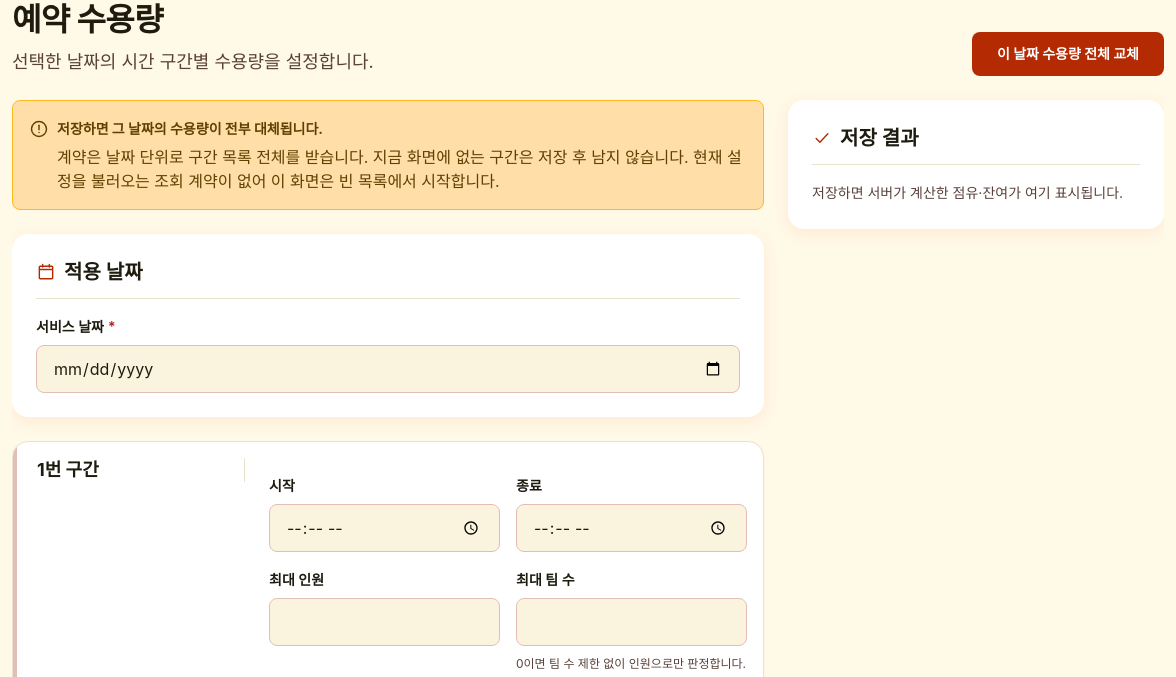
Test: 예약 수용량 화면 › 기존 점유와 충돌하면 다른 사용자 상태를 노출하지 않고 안내한다
In the date field labelled "서비스 날짜": (388, 369) [36, 345, 740, 393], type "2026-09-01"
In the time field labelled "시작": (384, 528) [269, 504, 500, 552], type "11:00"
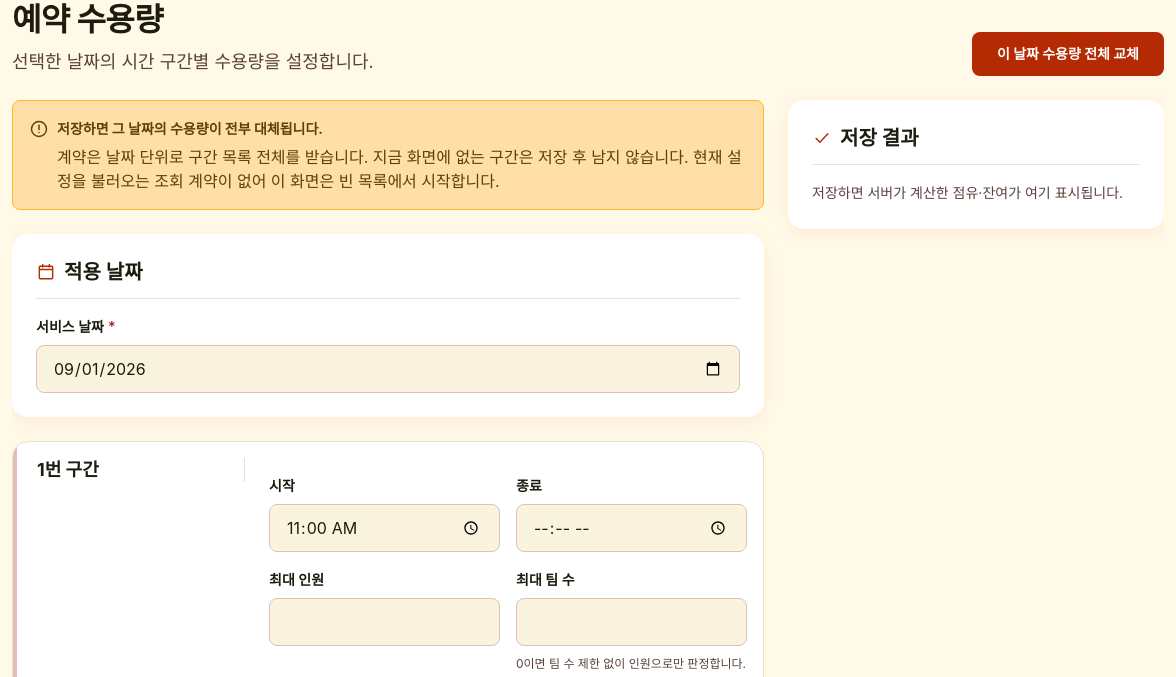
In the time field labelled "종료": (632, 528) [516, 504, 747, 552], type "14:00"
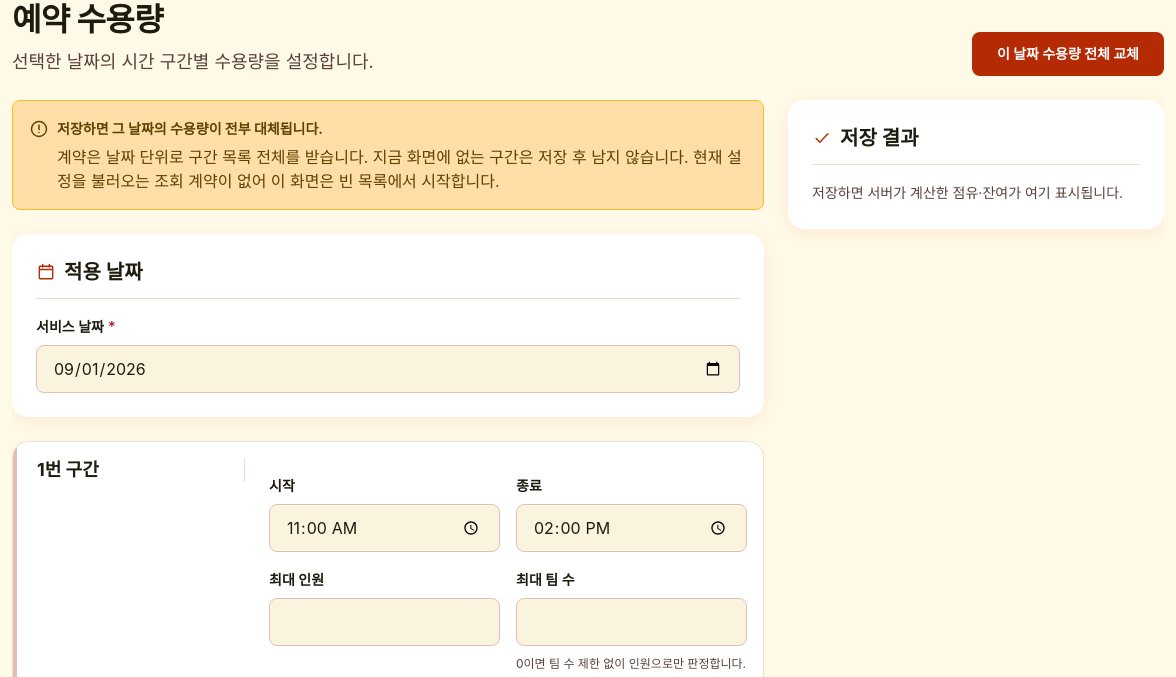
In the field labelled "최대 인원": (384, 622) [269, 598, 500, 646], type "40"
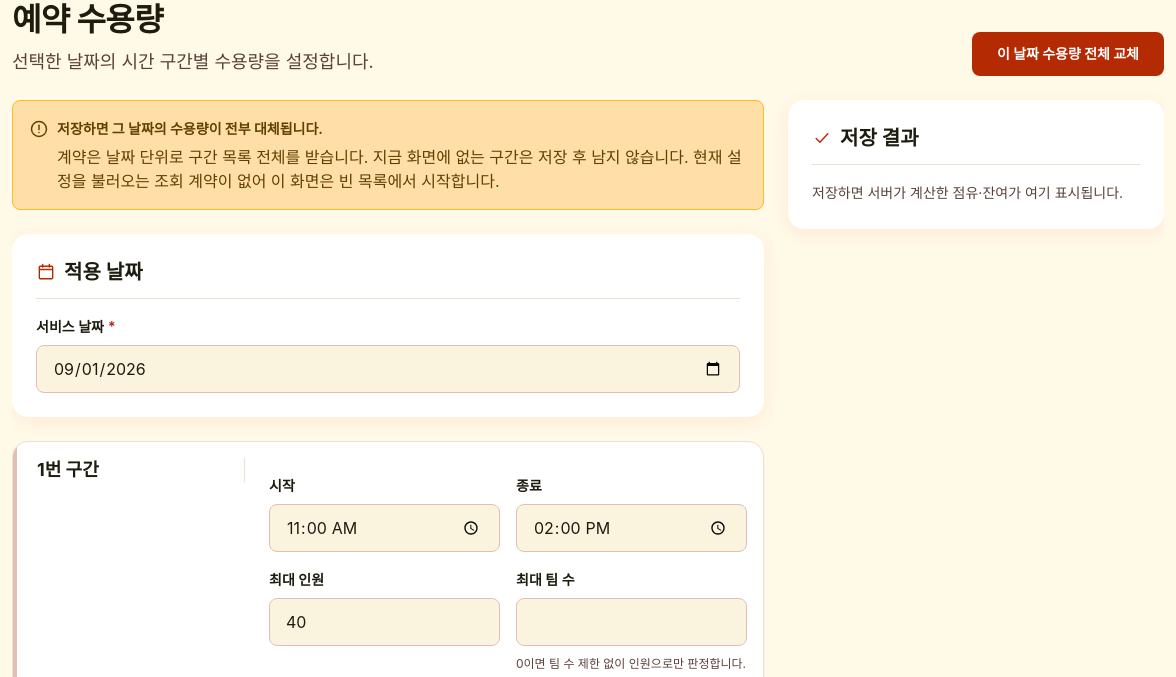
In the field labelled "최대 팀 수": (632, 622) [516, 598, 747, 646], type "10"
(page scrolled)
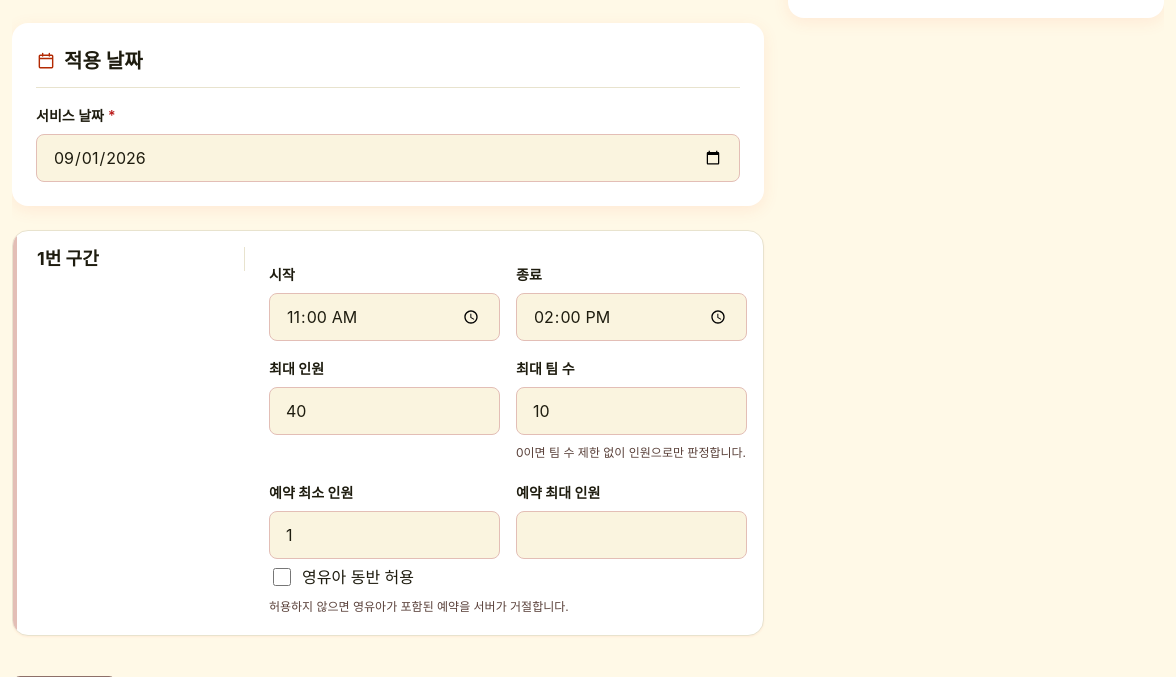
In the field labelled "예약 최대 인원": (632, 535) [516, 511, 747, 559], type "8"
(page scrolled)
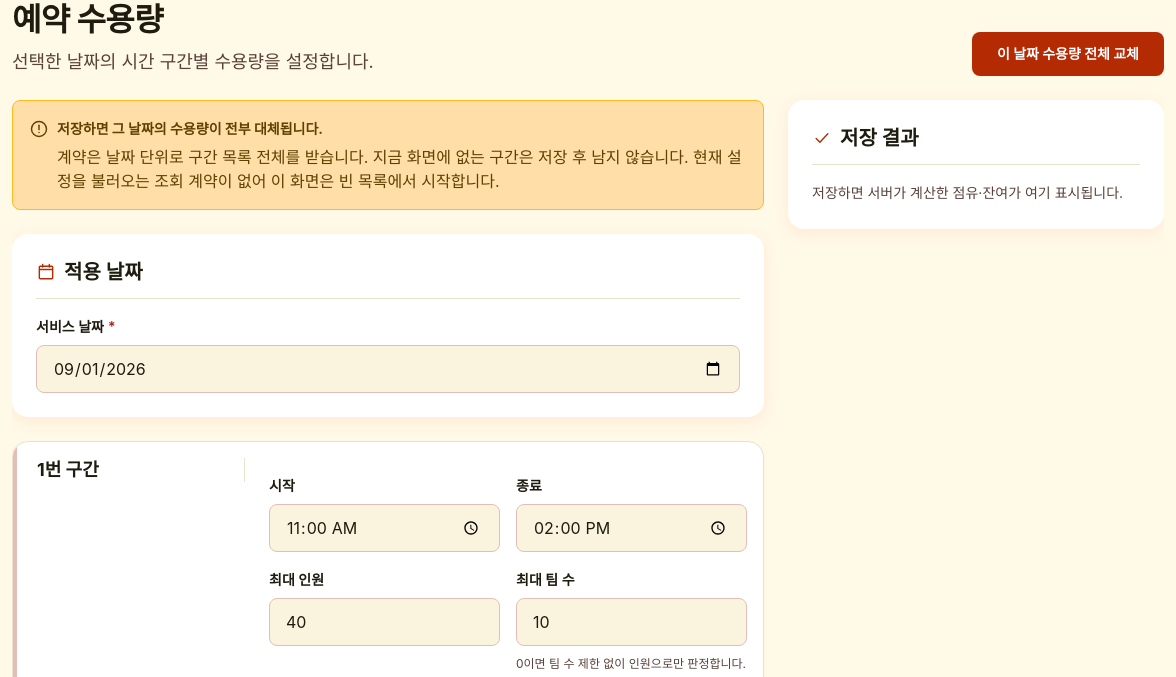
Click the button "이 날짜 수용량 전체 교체": (1068, 54) [972, 32, 1164, 76]
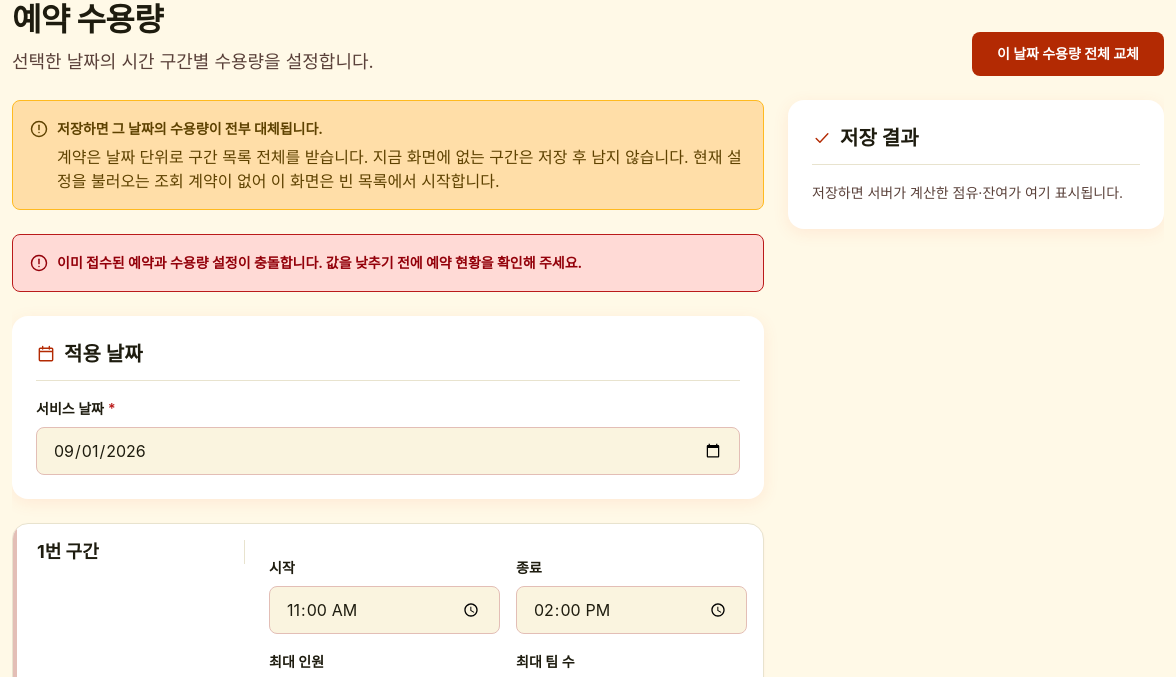
Expected: the text "이미 접수된 예약과 수용량 설정이 충돌합니다. 값을 낮추기 전에 예약 현황을 확인해 주세요." is shown, [57, 254, 582, 271]
